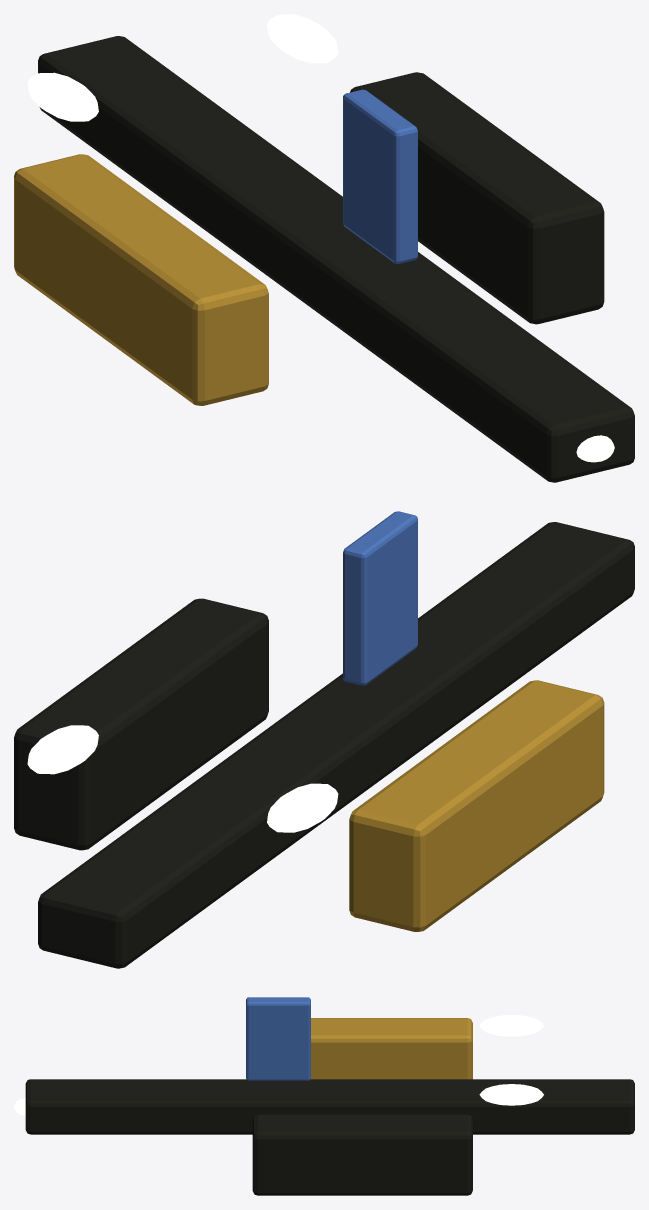
The picture shows the model from 3 angles, top to bottom: view 1: azimuth 30°, elevation 25°; view 2: azimuth 150°, elevation 25°; view 3: azimuth 270°, elevation 25°; orthographic projection. The views are drawn at different scales.
Visible parts, largest first — view 1: RIMWARD_HULL, RIMWARD_EMISSIVE, RIMWARD_ENGINE_GLOW; view 2: RIMWARD_HULL, RIMWARD_EMISSIVE; view 3: RIMWARD_HULL, RIMWARD_EMISSIVE.
Boxes of the visible parts, x1,y1,x2,y2 form: RIMWARD_HULL: [14, 36, 634, 482]; RIMWARD_EMISSIVE: [27, 14, 338, 121]; RIMWARD_ENGINE_GLOW: [576, 435, 614, 462]; RIMWARD_HULL: [14, 511, 634, 968]; RIMWARD_EMISSIVE: [27, 725, 338, 832]; RIMWARD_HULL: [25, 997, 634, 1195]; RIMWARD_EMISSIVE: [479, 1015, 543, 1105].
Size of the model in its own units: 3.37 by 1.84 by 7.47.
